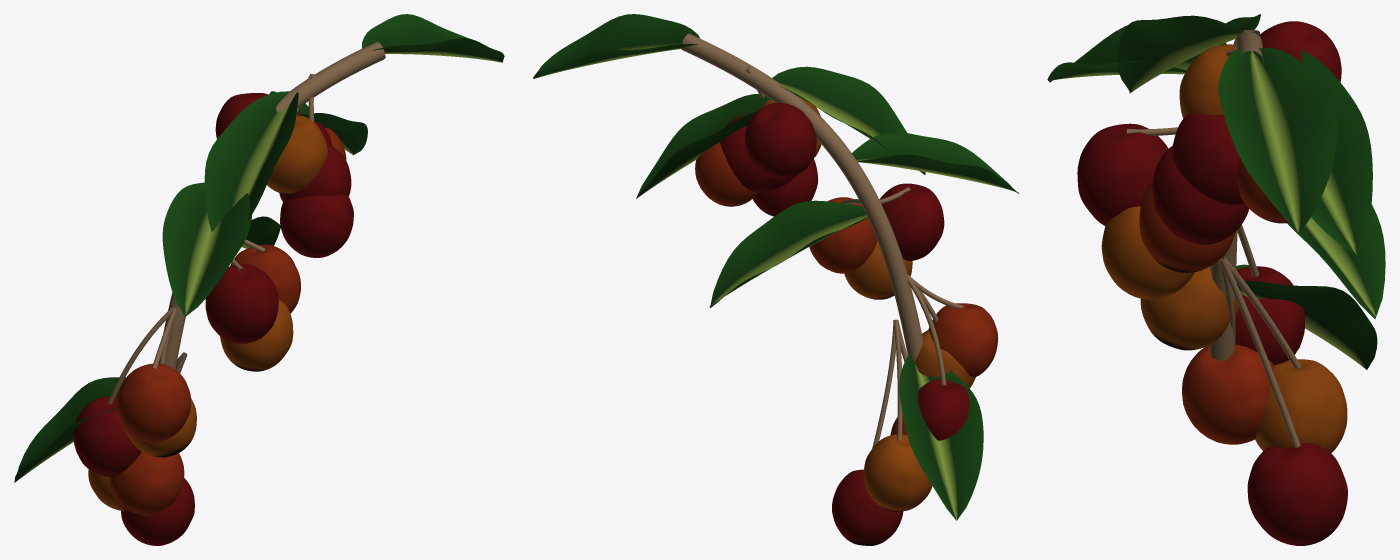
The model's file is branch.glb.
3 renders of one model, left to right at view 1: azimuth 30°, elevation 25°; view 2: azimuth 150°, elevation 25°; view 3: azimuth 270°, elevation 25°, orthographic. The views are drawn at different scales.
Parts seen in each view (by area): view 1: hoja.003, hoja.001, cereza.012, cereza.003, cereza.011, hoja.004, cereza.014, cereza, rama, hoja.005, cereza.009, cereza.002 (+9 smaller); view 2: rama, hoja.005, hoja, hoja.003, hoja.004, hoja.001, cereza.006, hoja.002, cereza.001, cereza.003, cereza.012, cereza.002 (+10 smaller); view 3: hoja.004, cereza.002, cereza, hoja.002, cereza.003, cereza.001, hoja.003, hoja.005, cereza.013, cereza.010, cereza.011, cereza.005 (+11 smaller).
Boxes of the visible parts, <box> form: hoja.003: <box>204,91,298,232</box>; hoja.001: <box>162,182,251,316</box>; cereza.012: <box>117,363,190,442</box>; cereza.003: <box>205,264,278,343</box>; cereza.011: <box>280,194,353,257</box>; hoja.004: <box>362,14,504,62</box>; cereza.014: <box>73,396,141,476</box>; cereza: <box>109,451,184,515</box>; rama: <box>158,41,385,369</box>; hoja.005: <box>14,377,125,482</box>; cereza.009: <box>267,115,327,194</box>; cereza.002: <box>121,478,194,545</box>; rama: <box>681,33,923,361</box>; hoja.005: <box>899,354,983,520</box>; hoja: <box>709,200,868,307</box>; hoja.003: <box>772,66,925,174</box>; hoja.004: <box>533,14,699,78</box>; hoja.001: <box>852,133,1018,193</box>; cereza.006: <box>745,103,816,178</box>; hoja.002: <box>636,94,770,198</box>; cereza.001: <box>863,434,932,511</box>; cereza.003: <box>879,183,944,260</box>; cereza.012: <box>928,303,998,377</box>; cereza.002: <box>832,469,903,545</box>; hoja.004: <box>1218,47,1337,235</box>; cereza.002: <box>1247,443,1347,545</box>; cereza: <box>1182,345,1274,444</box>; hoja.002: <box>1301,50,1372,255</box>; cereza.003: <box>1077,123,1168,225</box>; cereza.001: <box>1255,359,1347,453</box>; hoja.003: <box>1117,14,1260,93</box>; hoja.005: <box>1236,264,1377,369</box>; cereza.013: <box>1140,266,1239,350</box>; cereza.010: <box>1172,113,1244,204</box>; cereza.011: <box>1152,146,1248,244</box>; cereza.005: <box>1101,206,1194,299</box>.
Bounding box in the file's own units: 2.5 × 2.36 × 1.16.
